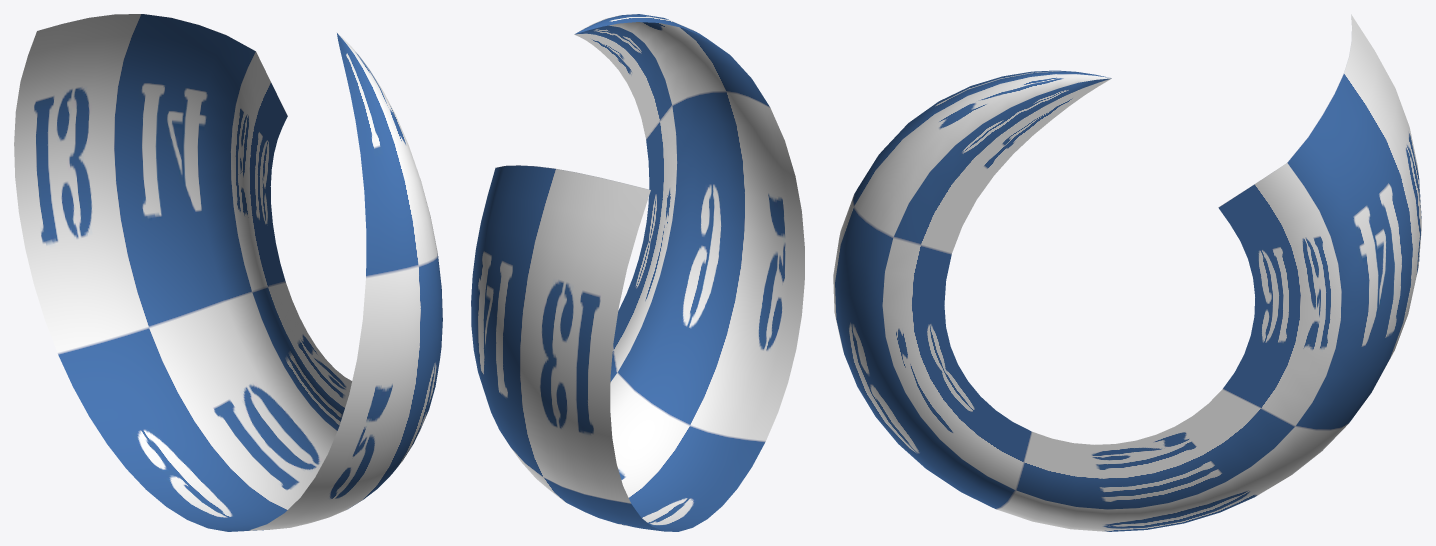
Rendered from Wind2_L.fbx.
3 views of the same model, side by side, from view 1: azimuth 30°, elevation 25°; view 2: azimuth 150°, elevation 25°; view 3: azimuth 270°, elevation 25° (orthographic). The views are drawn at different scales.
Parts seen in each view (by area): view 1: SM_e_cmn_Wind001_L; view 2: SM_e_cmn_Wind001_L; view 3: SM_e_cmn_Wind001_L.
Boxes of the visible parts, left/top/right/bottom form: SM_e_cmn_Wind001_L: left=14, top=14, right=442, bottom=531; SM_e_cmn_Wind001_L: left=471, top=14, right=804, bottom=531; SM_e_cmn_Wind001_L: left=833, top=14, right=1421, bottom=531.
Size of the model in its own units: 34.59 by 79.48 by 85.95.
